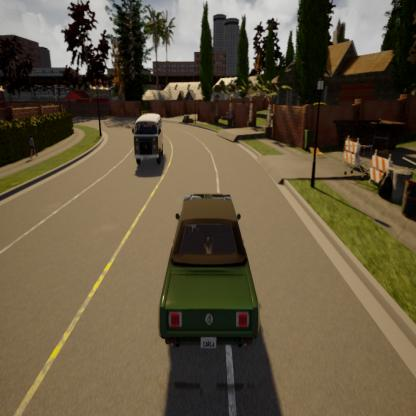Cars: (149, 183, 268, 362), (129, 109, 167, 169)
Pedestrian: (27, 132, 40, 162)
